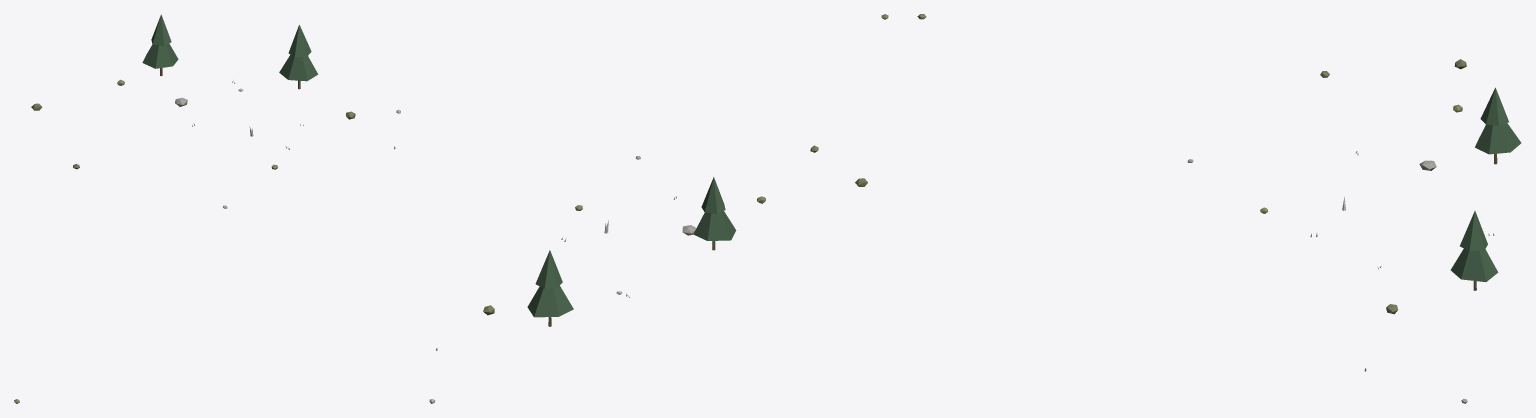
File: coast_land_scatter_c12_21_lod1.glb
The picture shows the model from 3 angles, left to right: view 1: azimuth 30°, elevation 25°; view 2: azimuth 210°, elevation 25°; view 3: azimuth 270°, elevation 25°; orthographic projection. The views are drawn at different scales.
Visible parts, largest first — view 1: coast_land_scatter_c12_21_lod1; view 2: coast_land_scatter_c12_21_lod1; view 3: coast_land_scatter_c12_21_lod1.
Part boxes in pixels (left/top/right/bottom): coast_land_scatter_c12_21_lod1: left=14, top=14, right=400, bottom=403; coast_land_scatter_c12_21_lod1: left=429, top=14, right=888, bottom=403; coast_land_scatter_c12_21_lod1: left=917, top=14, right=1521, bottom=403.
Size of the model in its own units: 126 by 28.99 by 88.17.
